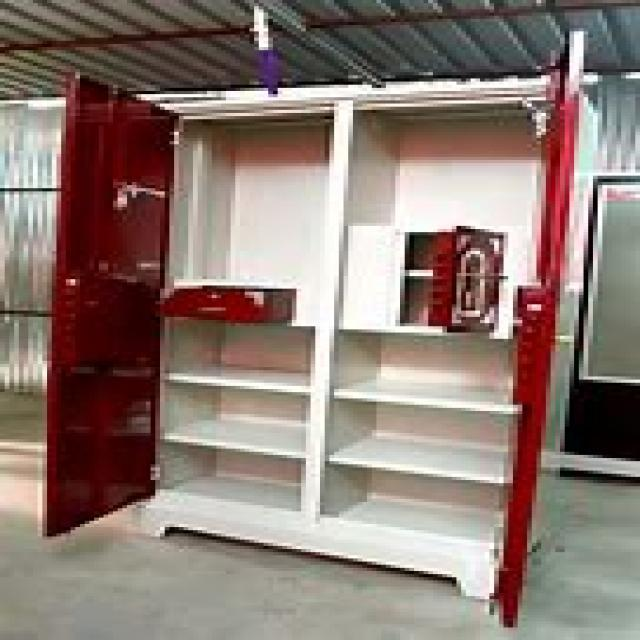dolap: (33, 35, 593, 624)
